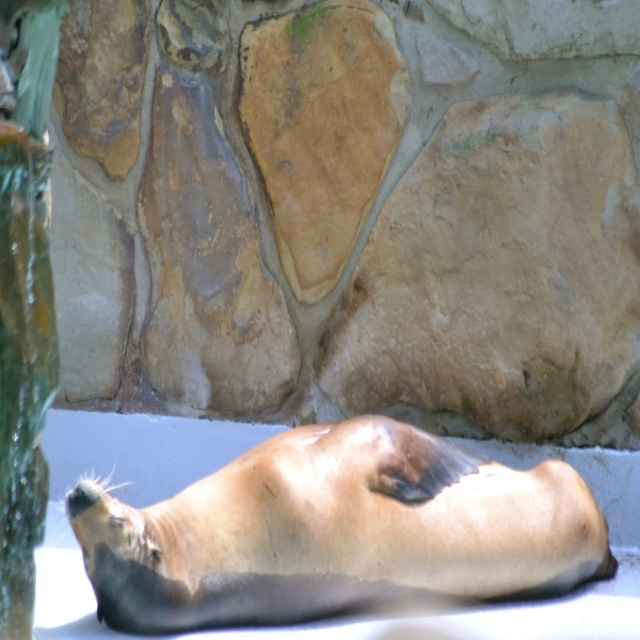Harbor seal: (64, 401, 627, 623)
